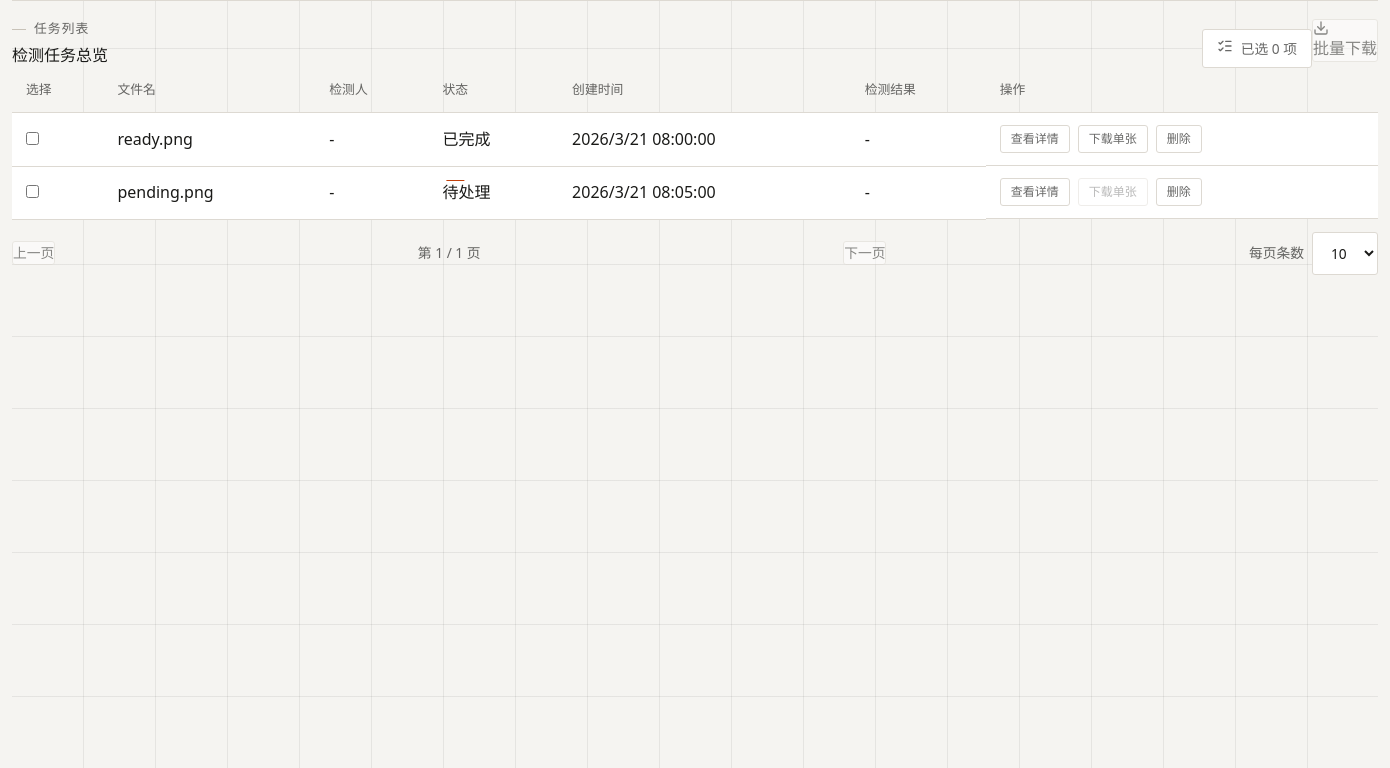
Test: keeps batch download disabled when any selected task is not completed
Click the checkbox named "选择 ready.png". click: [32, 138]
box: x1=26 y1=132 x2=39 y2=145
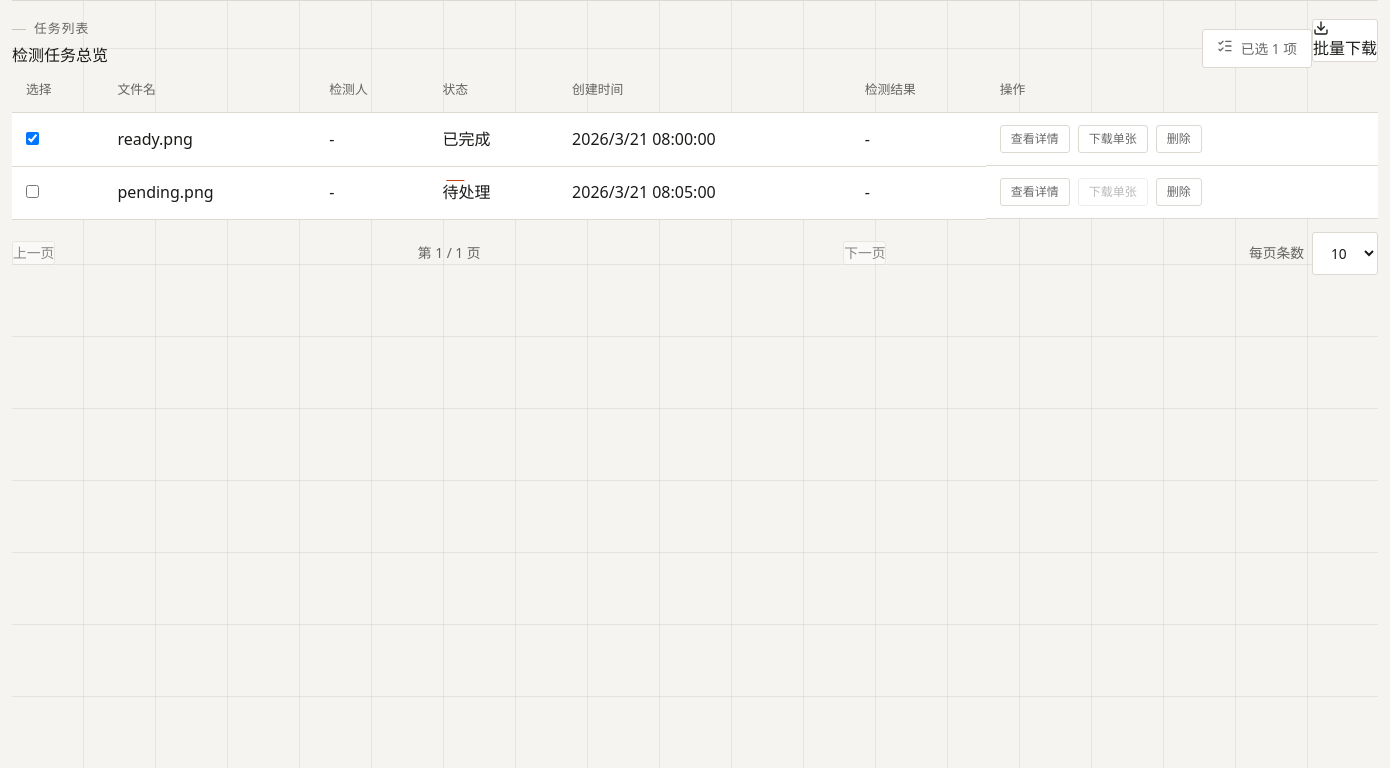
Click the checkbox named "选择 pending.png". click: [32, 192]
box: x1=26 y1=185 x2=39 y2=198
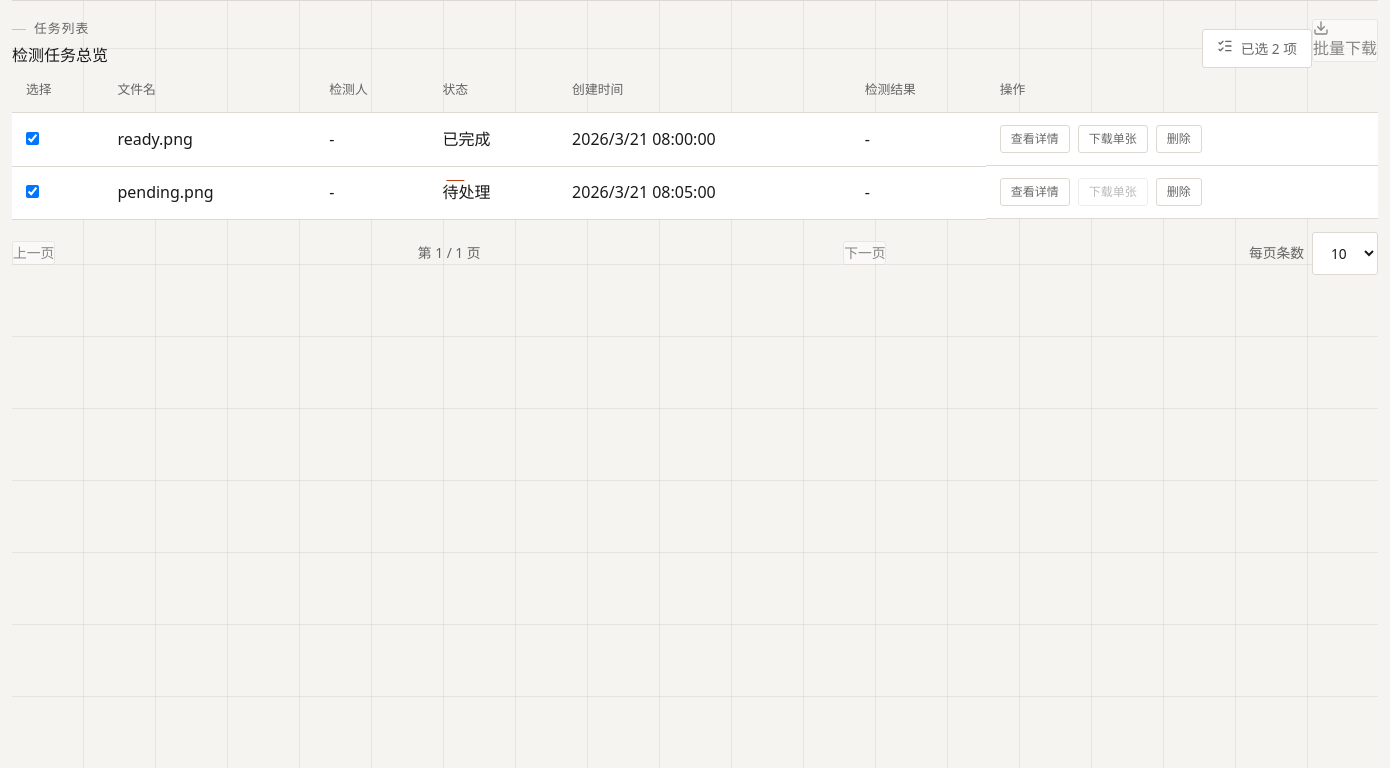
expect the button "批量下载" is disabled: met, box x1=1312 y1=19 x2=1378 y2=62
